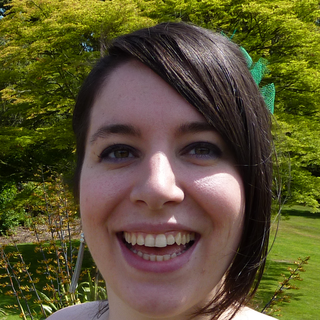eye: (175, 138, 226, 165), (92, 143, 144, 166)
